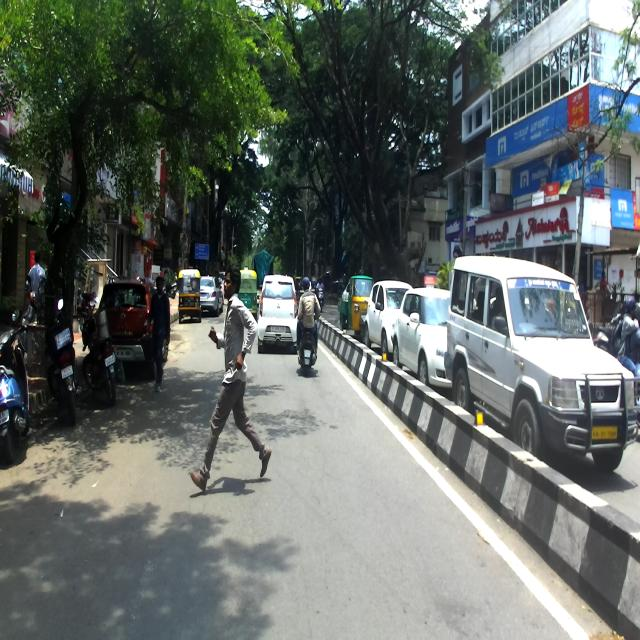car ahead at: (447, 255, 635, 473)
motorcycle ahead at: (0, 303, 38, 474), (44, 293, 84, 436)
person ahead at: (187, 265, 274, 494), (147, 274, 175, 388)
